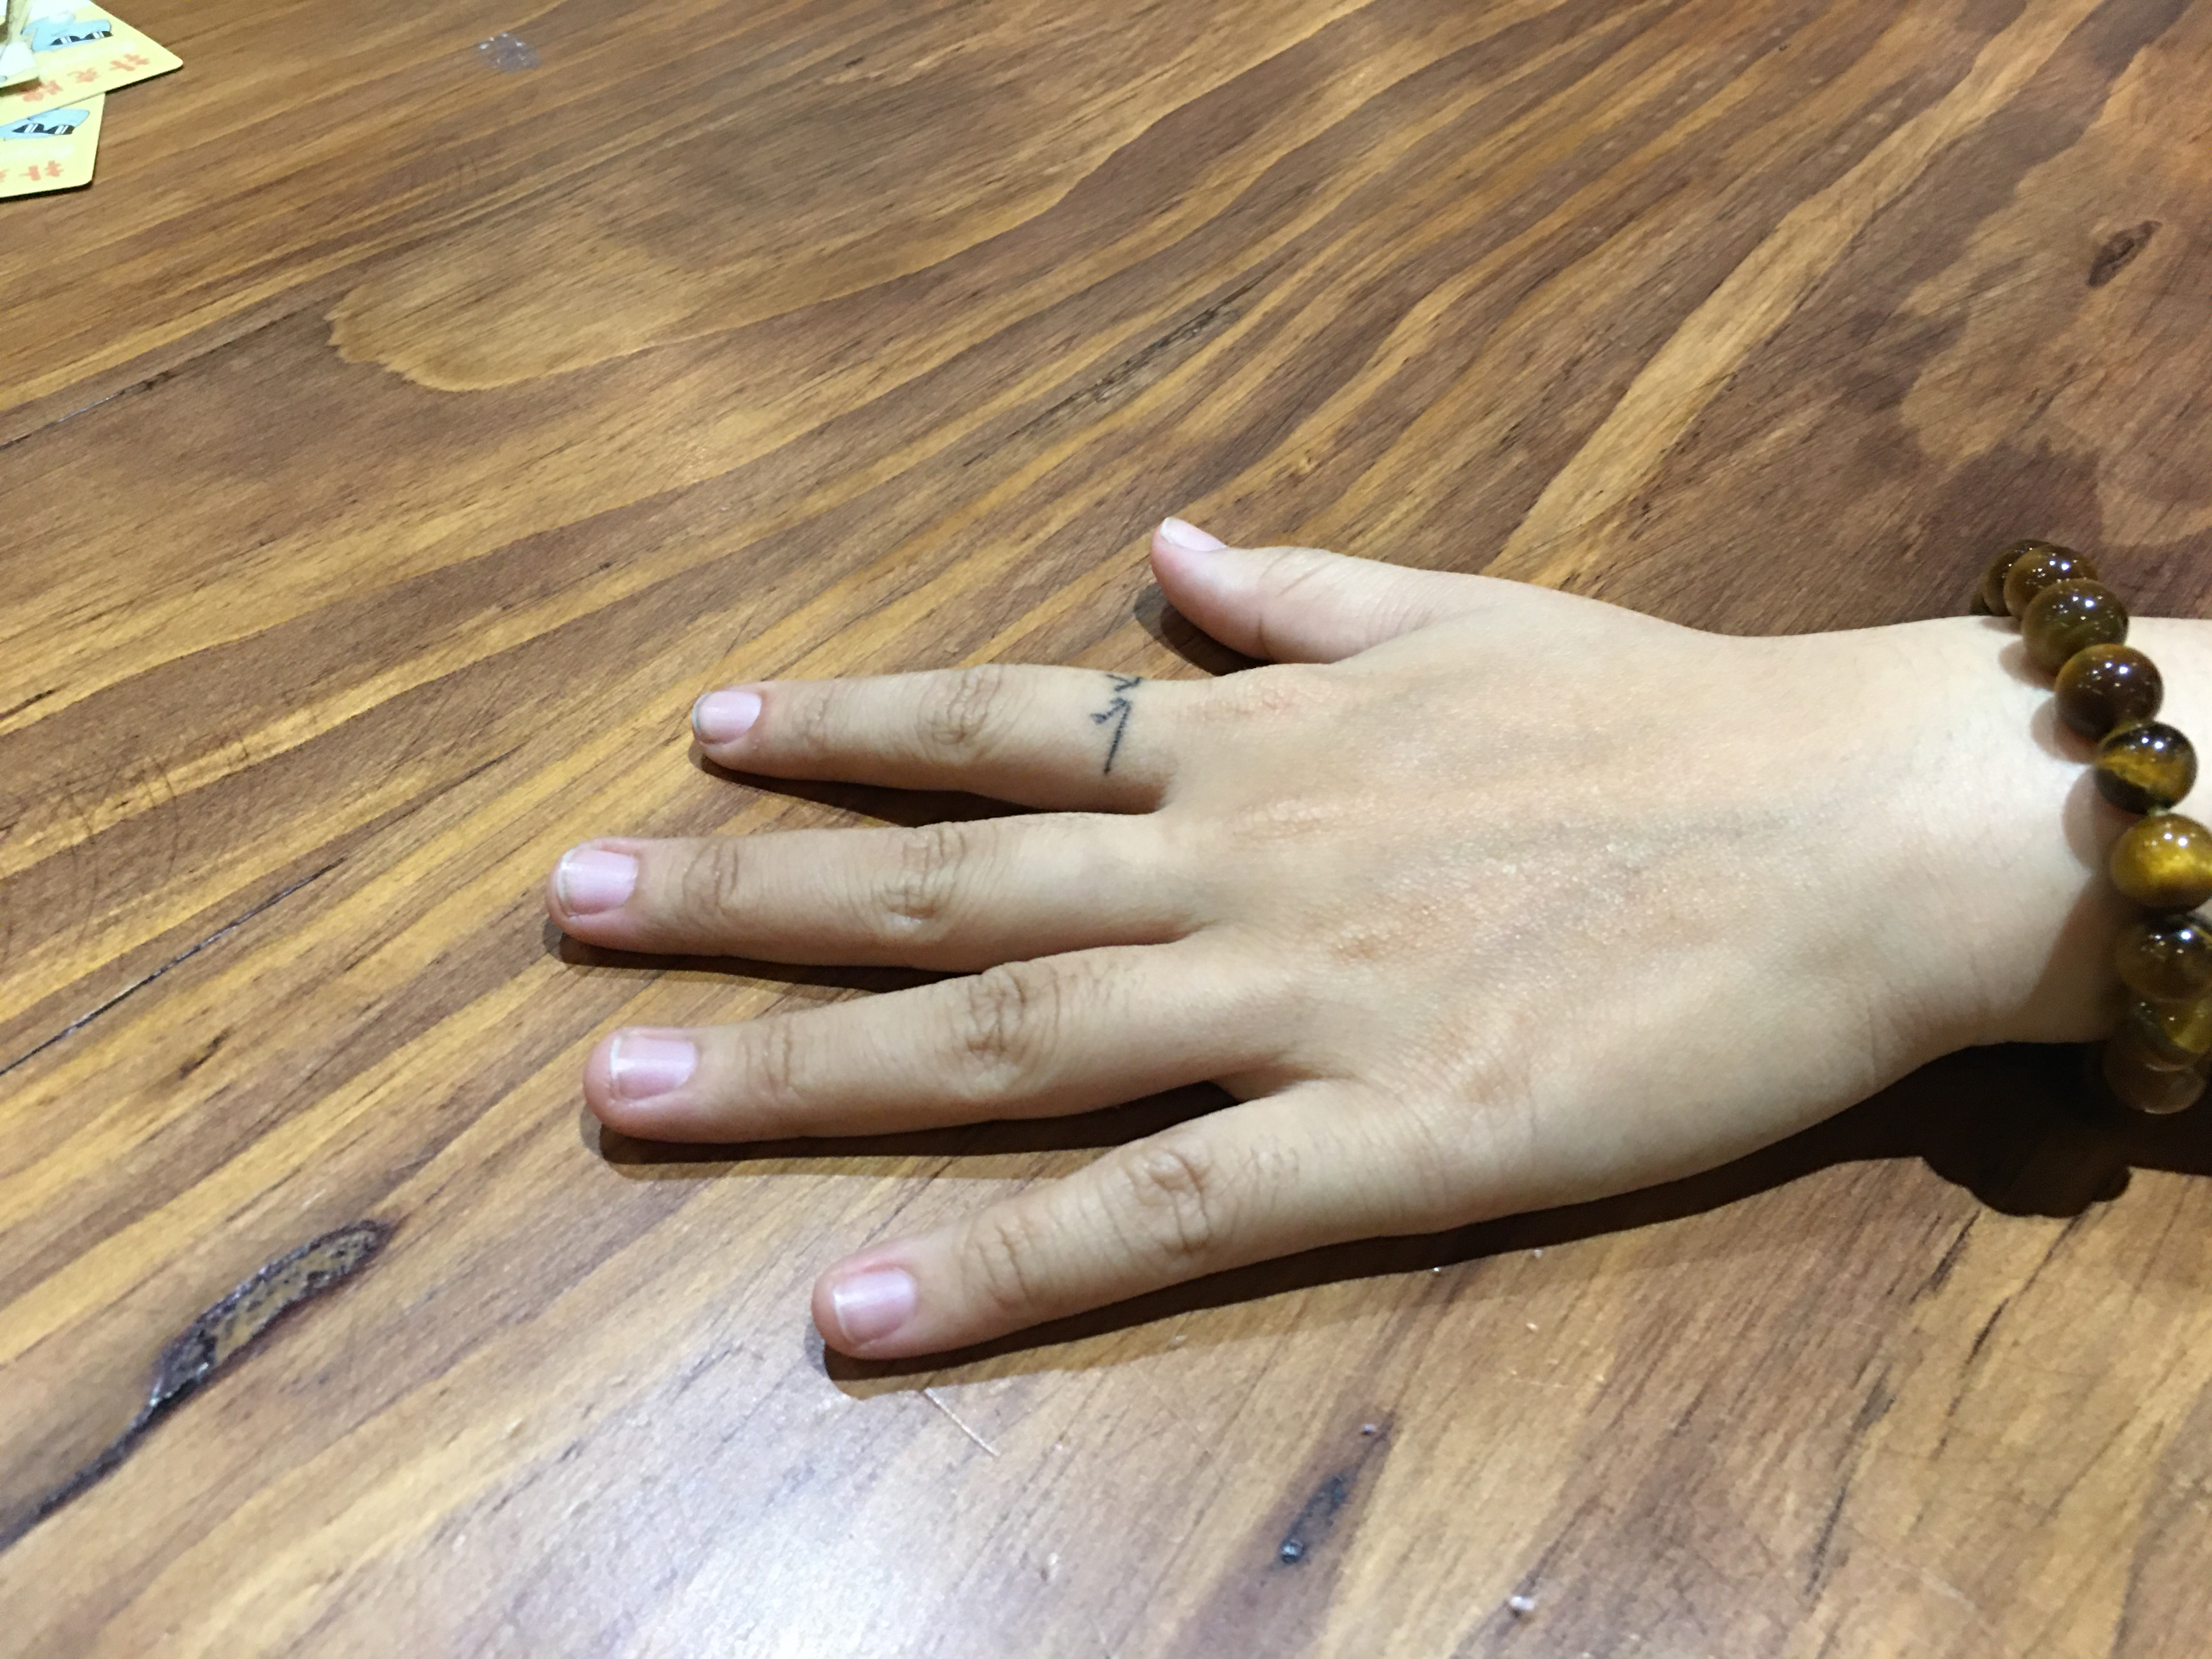nails: (601, 1016, 702, 1119), (820, 1256, 923, 1352), (545, 833, 646, 922), (1153, 498, 1238, 572), (688, 671, 763, 753)
